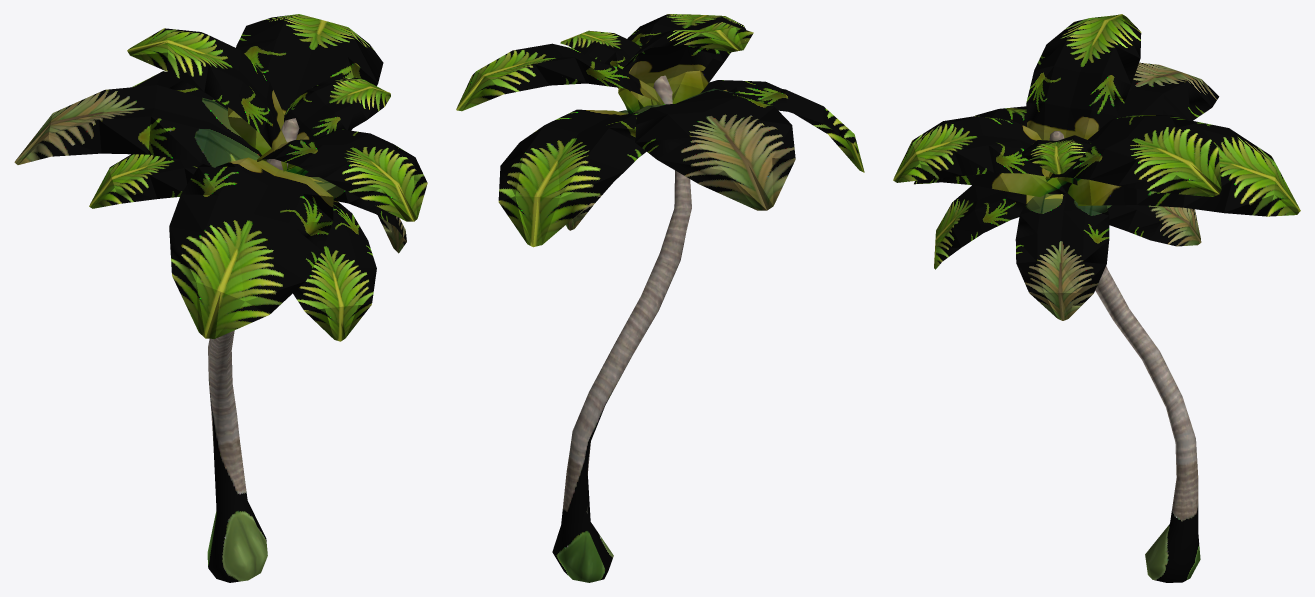
The model's file is Palm02.glb.
3 renders of one model, left to right at view 1: azimuth 30°, elevation 25°; view 2: azimuth 150°, elevation 25°; view 3: azimuth 270°, elevation 25°, orthographic. The views are drawn at different scales.
Parts seen in each view (by area): view 1: Palm02; view 2: Palm02; view 3: Palm02.
Boxes of the visible parts, x1,y1,x2,y2 form: Palm02: [14, 14, 427, 582]; Palm02: [456, 14, 864, 582]; Palm02: [893, 14, 1300, 582].
Size of the model in its own units: 12.07 by 20.01 by 14.38.
1 material, 1 textured.
